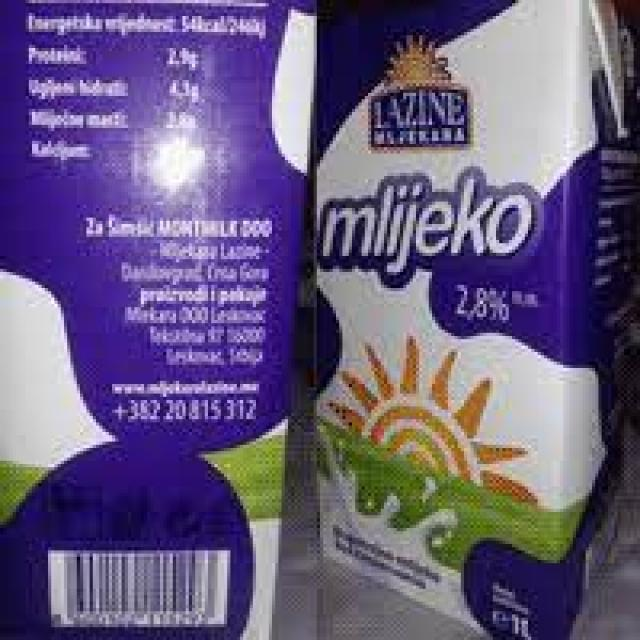cardboard: (312, 0, 640, 640), (0, 0, 311, 640)
